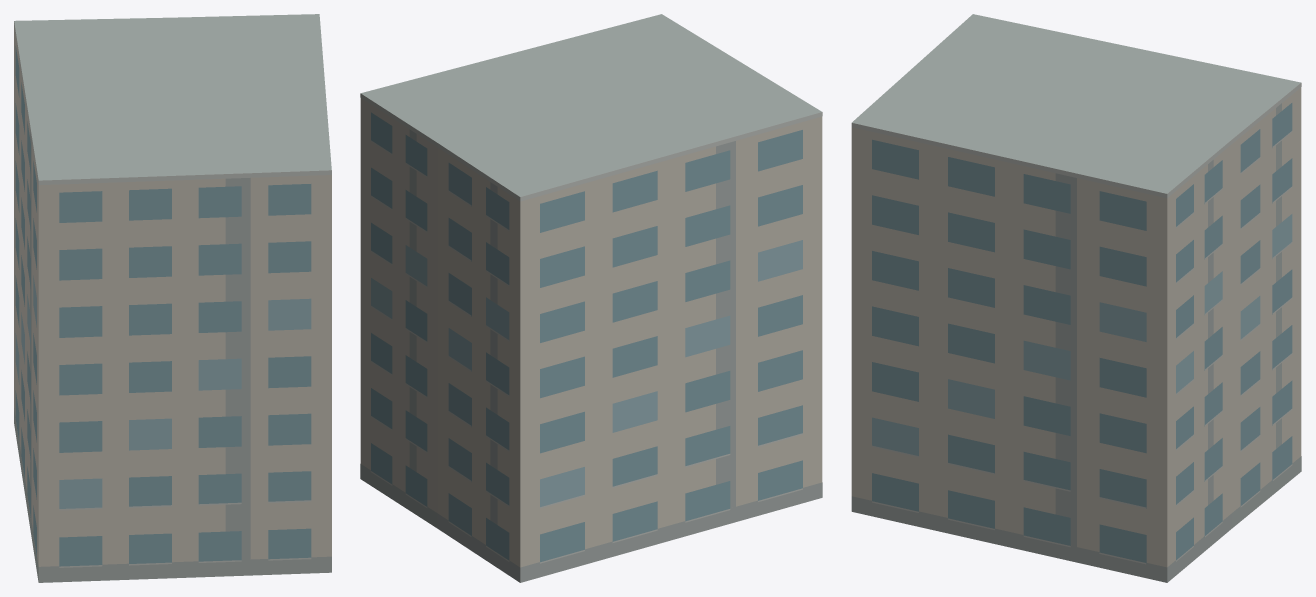
Rendered from survey-upis-32560301.glb.
3 renders of one model, left to right at view 1: azimuth 30°, elevation 25°; view 2: azimuth 150°, elevation 25°; view 3: azimuth 270°, elevation 25°, orthographic. The views are drawn at different scales.
Visible parts, largest first — view 1: survey-upis-32560301.tmp; view 2: survey-upis-32560301.tmp; view 3: survey-upis-32560301.tmp.
Part boxes in pixels (bbox=[...]): survey-upis-32560301.tmp: bbox=[14, 14, 331, 582]; survey-upis-32560301.tmp: bbox=[360, 14, 822, 582]; survey-upis-32560301.tmp: bbox=[851, 14, 1301, 582].
Bounding box in the file's own units: 21.09 × 21.25 × 22.28.
